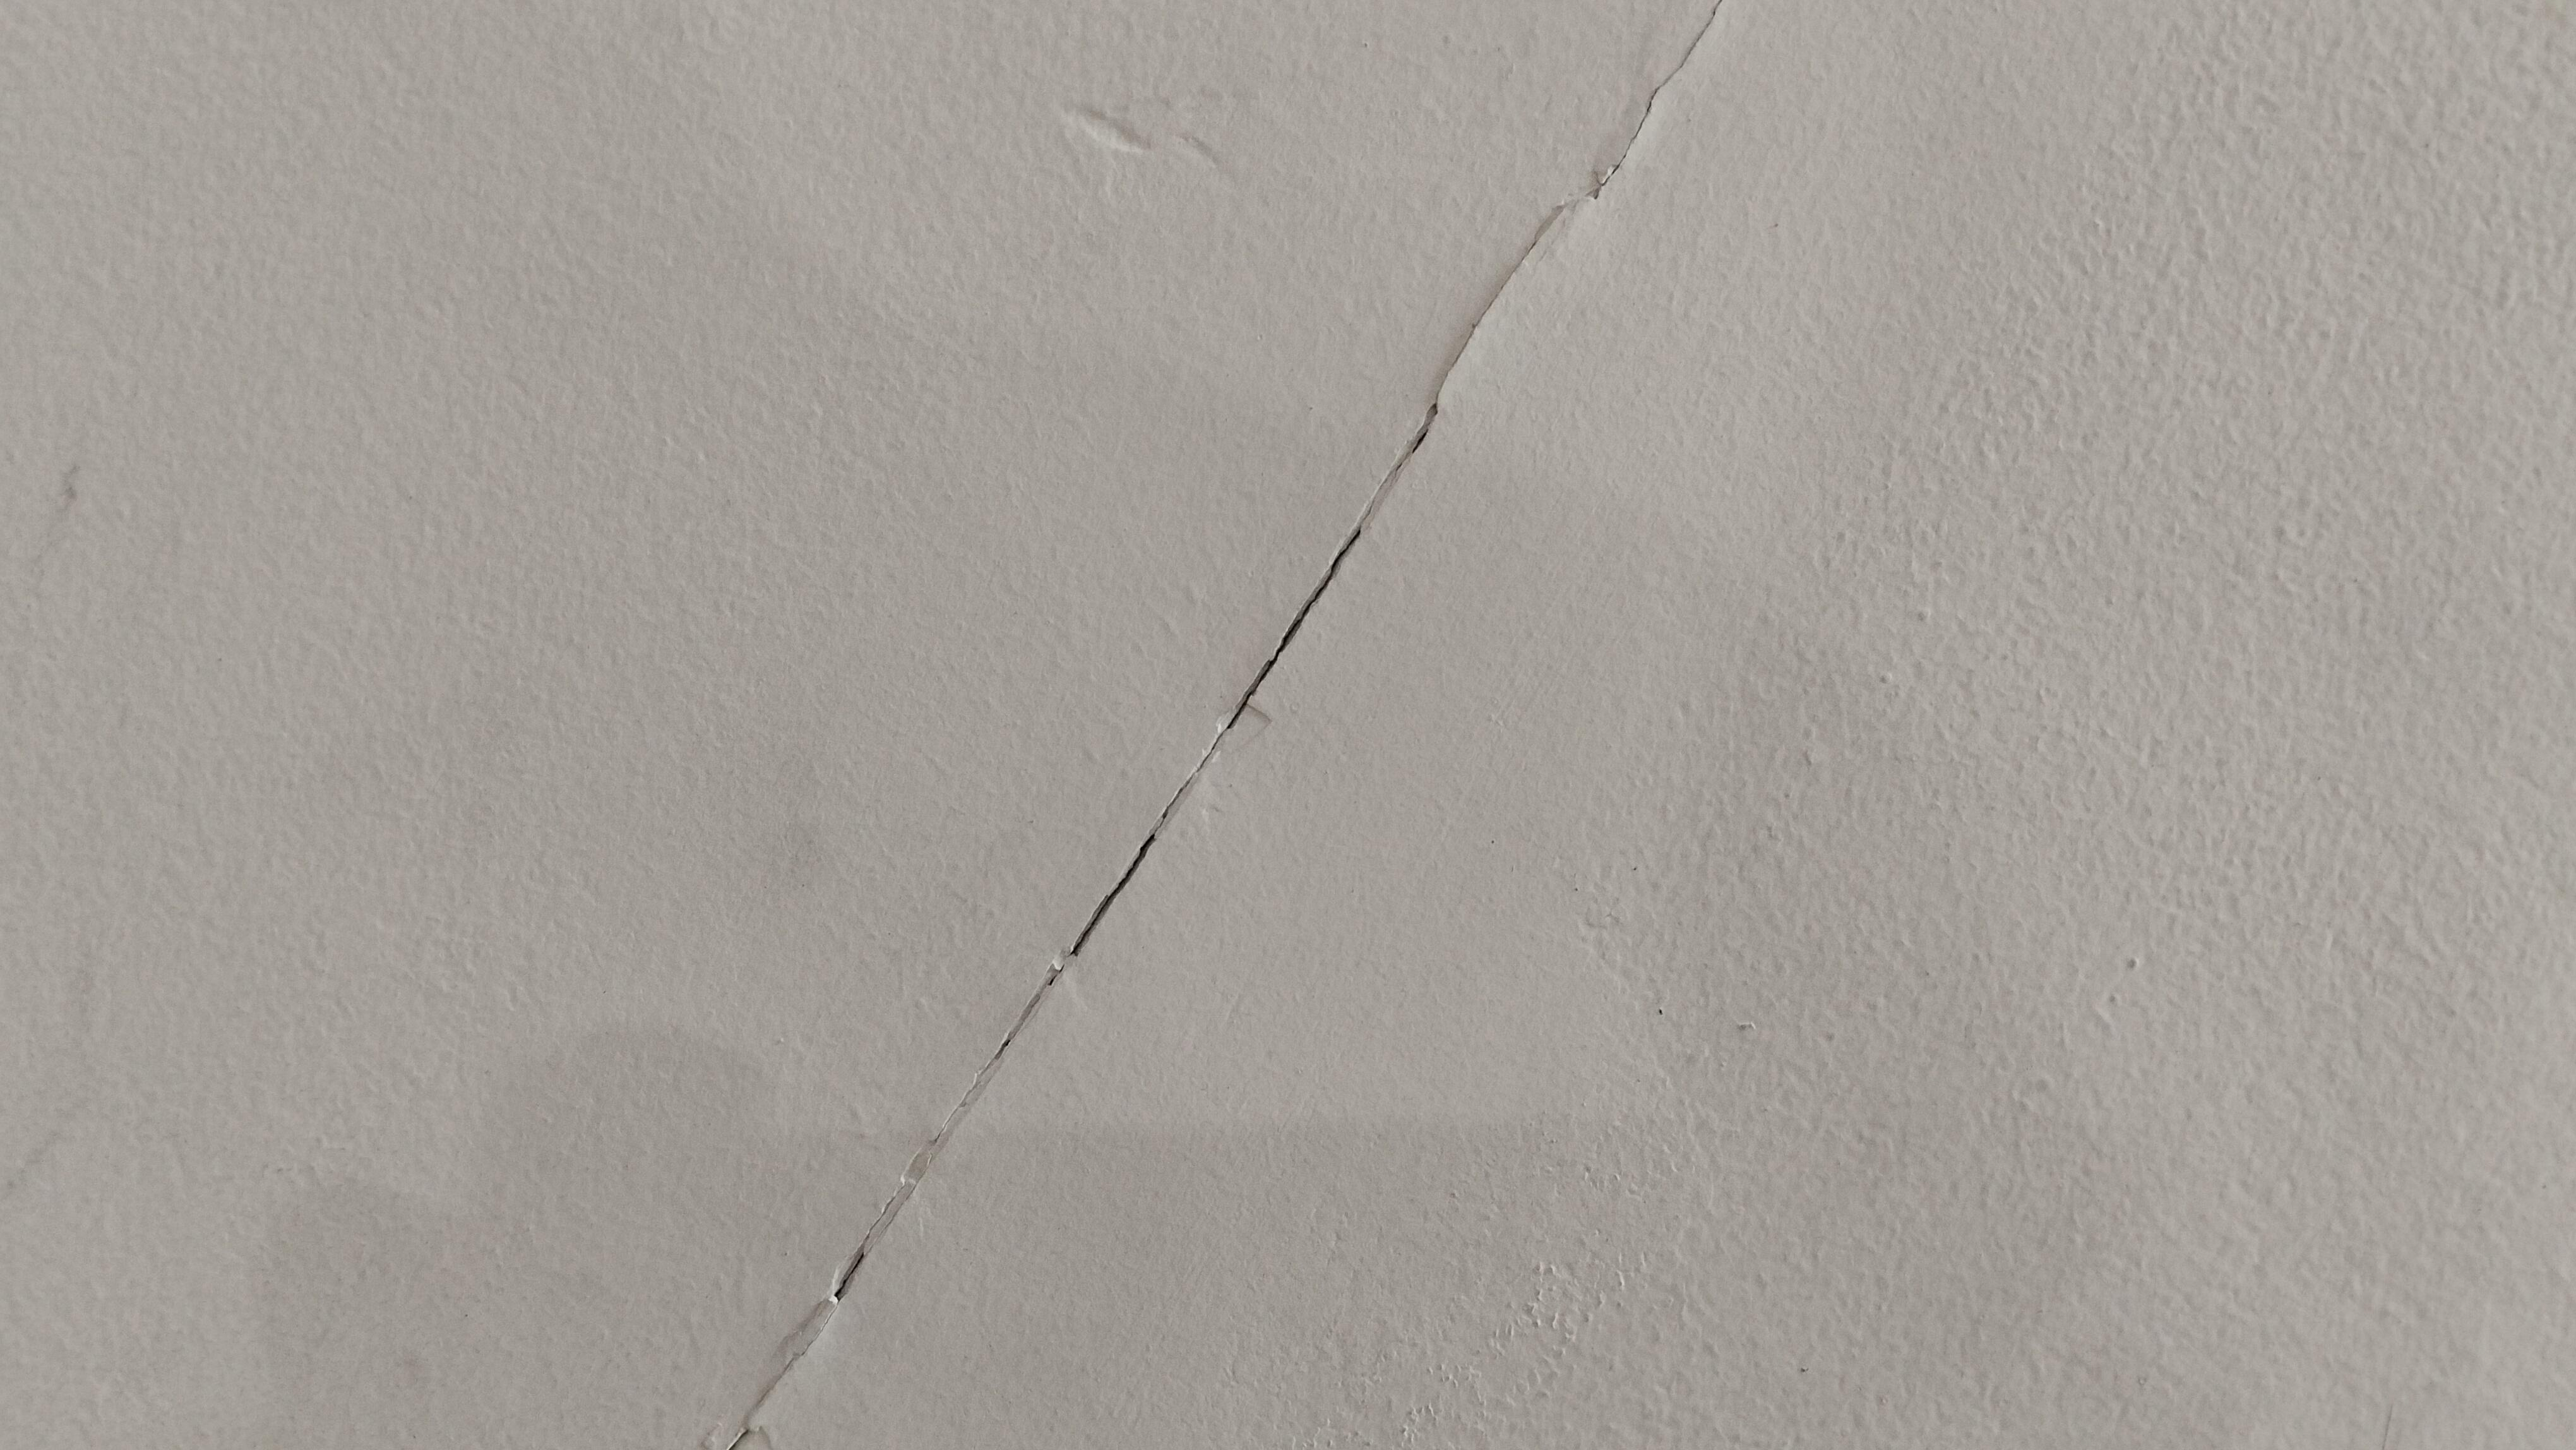Crack: (947, 786, 1269, 1092), (1191, 521, 1417, 774), (1566, 25, 1752, 225), (768, 1232, 925, 1346), (1369, 375, 1509, 492)
